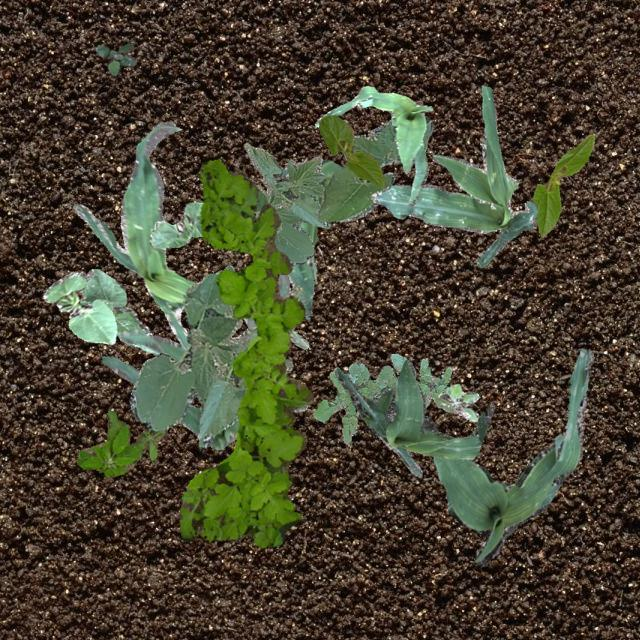crop: (75, 120, 308, 348), (420, 348, 592, 566), (102, 272, 290, 448), (128, 264, 308, 446), (369, 85, 536, 266), (334, 358, 494, 476), (314, 86, 432, 206), (316, 118, 432, 220), (242, 142, 330, 264), (276, 158, 342, 320), (78, 268, 158, 354), (532, 134, 594, 235), (42, 272, 116, 344), (318, 114, 384, 188), (148, 200, 202, 248)
weed: (178, 158, 312, 546), (313, 352, 457, 442), (76, 409, 166, 476), (434, 382, 478, 420), (94, 42, 134, 74)
